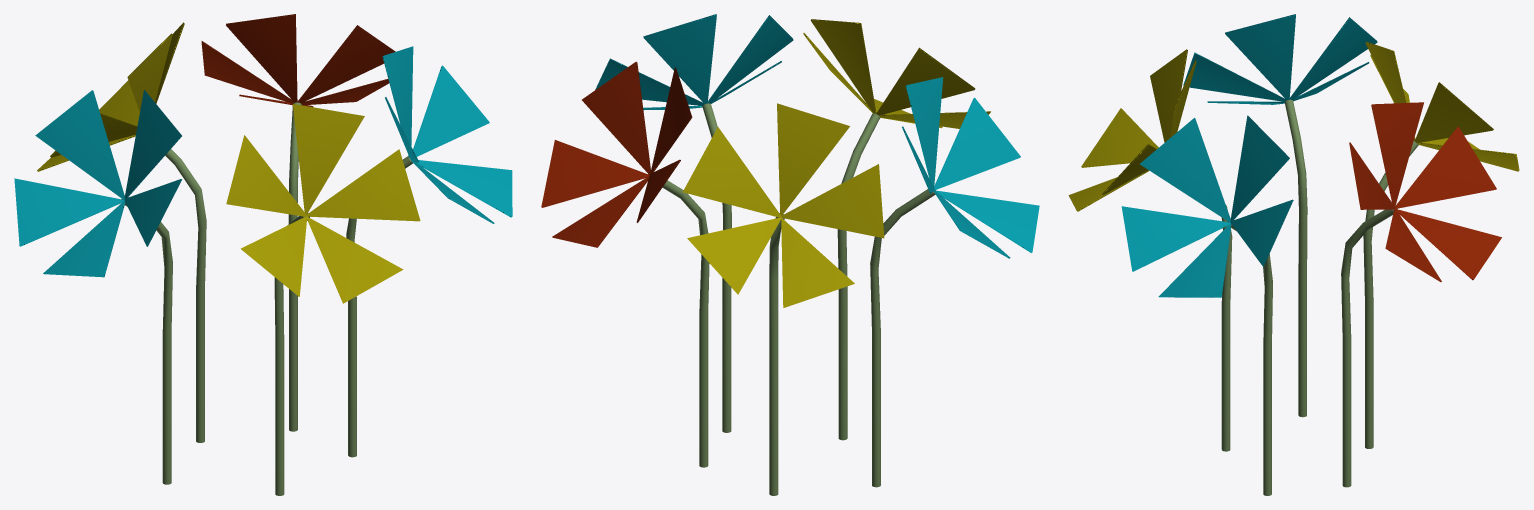
File: grupo flores 2.fbx
3 views of the same model, side by side, from view 1: azimuth 30°, elevation 25°; view 2: azimuth 150°, elevation 25°; view 3: azimuth 270°, elevation 25° (orthographic). The views are drawn at different scales.
Visible parts, largest first — view 1: grupo_flores_2; view 2: grupo_flores_2; view 3: grupo_flores_2.
Part boxes in pixels (x1,y1,x2,y2): grupo_flores_2: (14, 14, 512, 495); grupo_flores_2: (541, 14, 1039, 495); grupo_flores_2: (1068, 14, 1519, 495).
Bounding box in the file's own units: 2.02 × 1.75 × 1.84.
